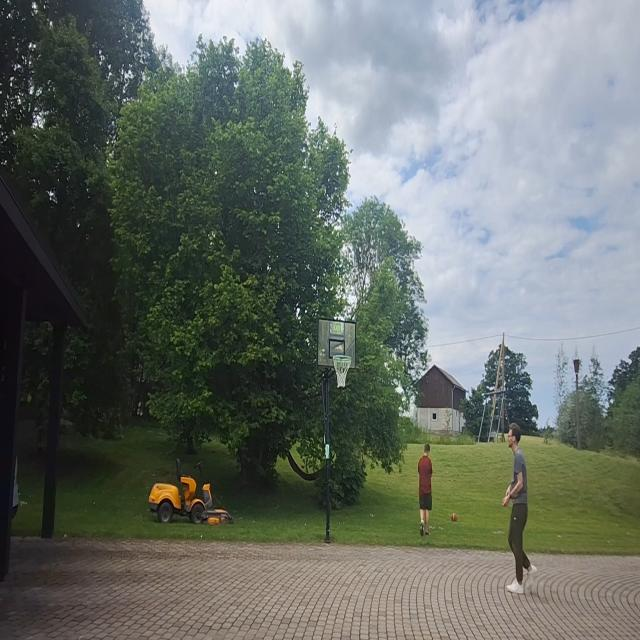ball: (451, 512, 459, 524)
basket: (333, 352, 353, 390)
player: (503, 419, 539, 594), (417, 441, 437, 537)
